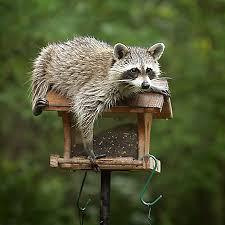raccoon: (29, 34, 166, 172)
